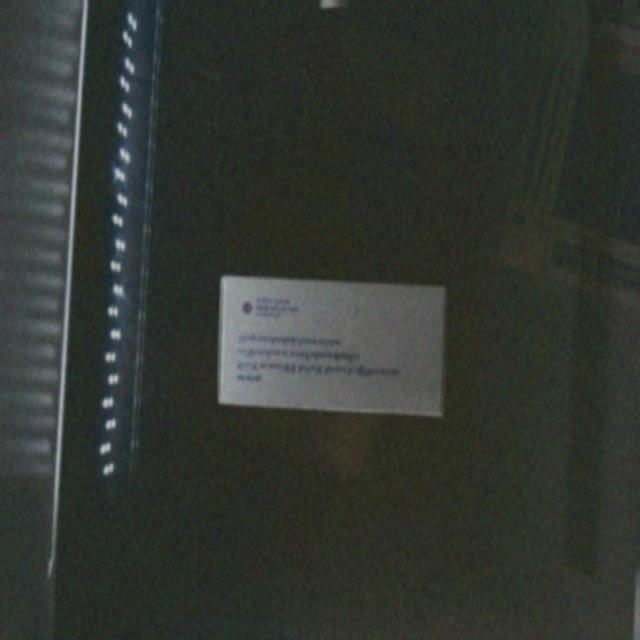sefloc: (213, 276, 449, 419)
